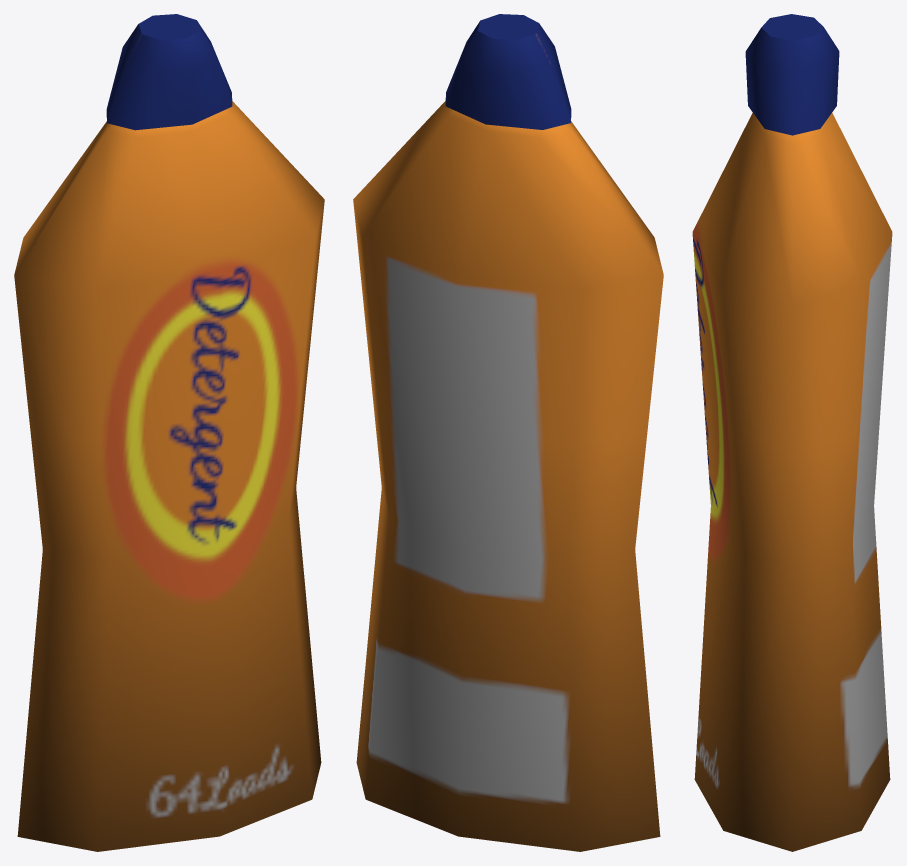
Rendered from Cleaners_08.fbx.
3 renders of one model, left to right at view 1: azimuth 30°, elevation 25°; view 2: azimuth 150°, elevation 25°; view 3: azimuth 270°, elevation 25°, orthographic. The views are drawn at different scales.
Parts seen in each view (by area): view 1: Cleaners_08; view 2: Cleaners_08; view 3: Cleaners_08.
Boxes of the visible parts, x1,y1,x2,y2 form: Cleaners_08: [14, 14, 324, 851]; Cleaners_08: [353, 14, 663, 851]; Cleaners_08: [692, 14, 892, 851].
Size of the model in its own units: 14.33 by 34.06 by 8.2.
